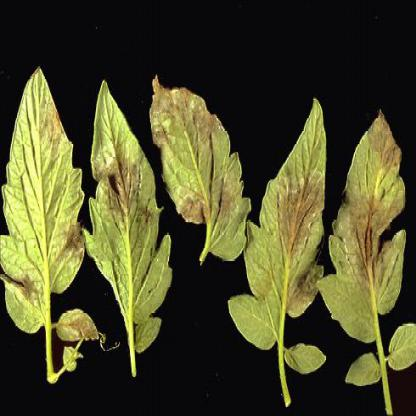Potato leaf late blight: (225, 90, 329, 399), (315, 108, 415, 400), (79, 77, 173, 382), (1, 65, 88, 386), (148, 72, 247, 274)
